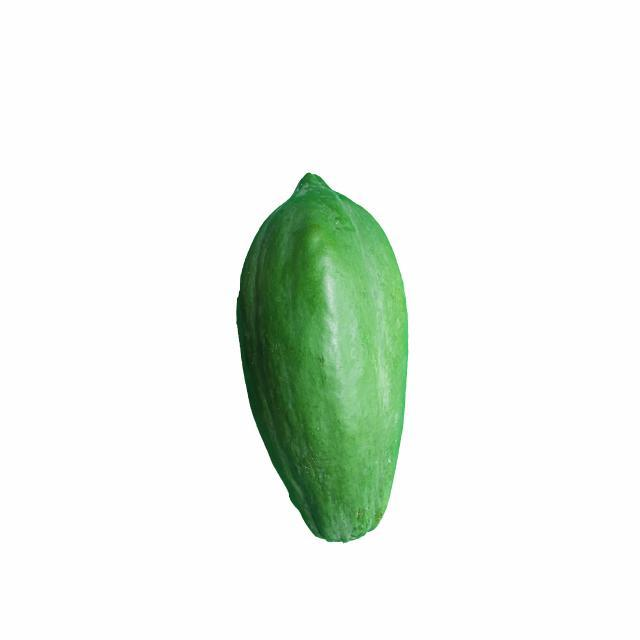Pepaya unrippen: (234, 168, 409, 550)
